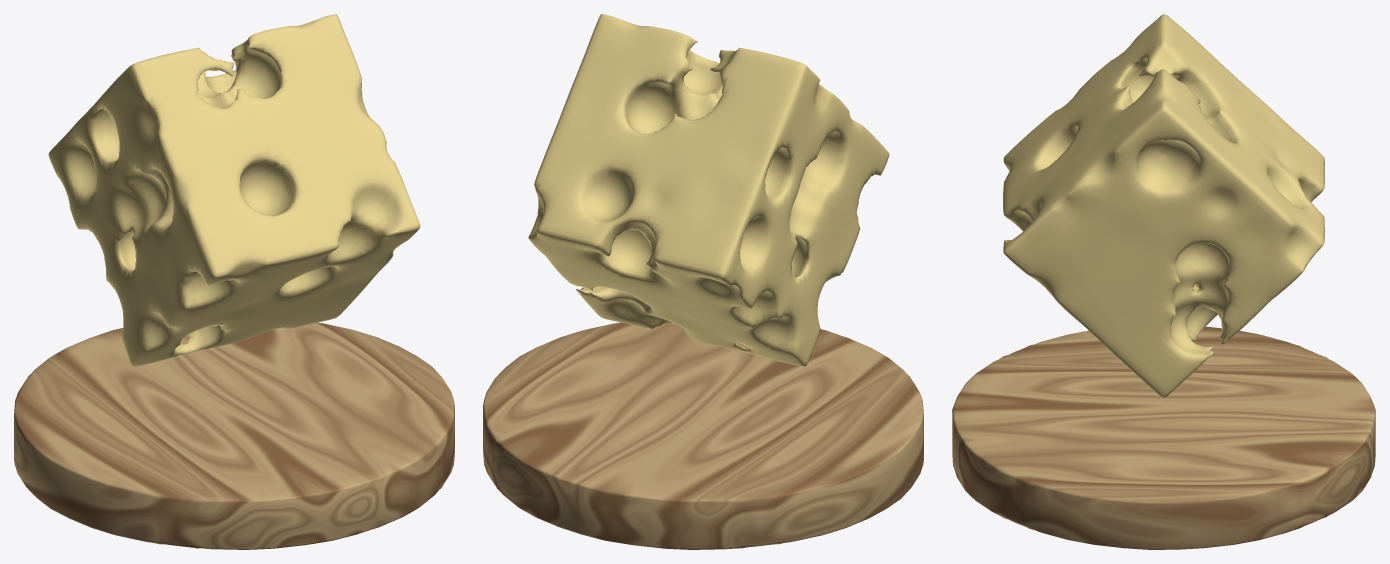
Rendered from cheese.fbx.
The picture shows the model from 3 angles, left to right: view 1: azimuth 30°, elevation 25°; view 2: azimuth 150°, elevation 25°; view 3: azimuth 270°, elevation 25°; orthographic projection. The views are drawn at different scales.
Visible parts, largest first — view 1: Cheese, Base; view 2: Cheese, Base; view 3: Cheese, Base.
Boxes of the visible parts, x1,y1,x2,y2 form: Cheese: (48,14,420,366); Base: (14,322,454,549); Cheese: (528,14,889,366); Base: (483,322,923,549); Cheese: (1003,14,1324,398); Base: (952,326,1375,549).
Bounding box in the file's own units: 375 × 393 × 375.
